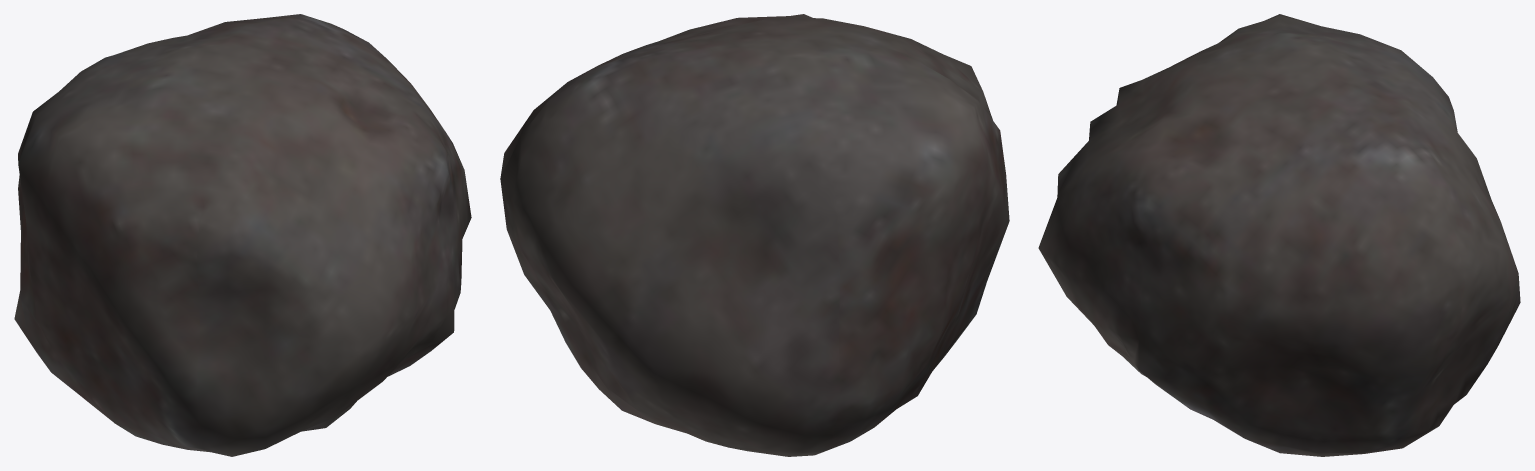
File: asteroid7.dae
3 renders of one model, left to right at view 1: azimuth 30°, elevation 25°; view 2: azimuth 150°, elevation 25°; view 3: azimuth 270°, elevation 25°, orthographic. The views are drawn at different scales.
Parts seen in each view (by area): view 1: Lp07; view 2: Lp07; view 3: Lp07.
Part boxes in pixels (bbox=[...]): Lp07: bbox=[14, 14, 471, 456]; Lp07: bbox=[500, 14, 1009, 456]; Lp07: bbox=[1038, 14, 1520, 456].
Size of the model in its own units: 2.85 by 2.4 by 2.97.
1 material, 1 textured.
